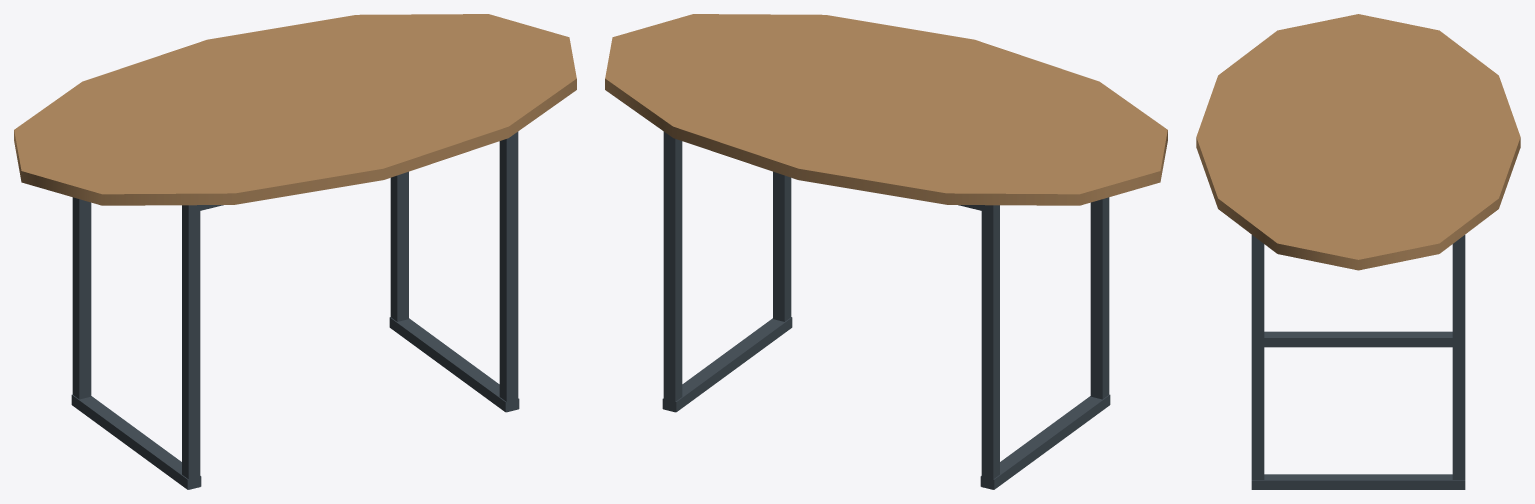
File: meetingTable-2.glb
The picture shows the model from 3 angles, left to right: view 1: azimuth 30°, elevation 25°; view 2: azimuth 150°, elevation 25°; view 3: azimuth 270°, elevation 25°; orthographic projection. The views are drawn at different scales.
Parts seen in each view (by area): view 1: meetingTable:2:editor; view 2: meetingTable:2:editor; view 3: meetingTable:2:editor.
Part boxes in pixels (x1,y1,x2,y2): meetingTable:2:editor: (14,14,576,489); meetingTable:2:editor: (605,14,1167,489); meetingTable:2:editor: (1196,14,1520,489).
Size of the model in its own units: 1.4 by 0.74 by 0.78.
